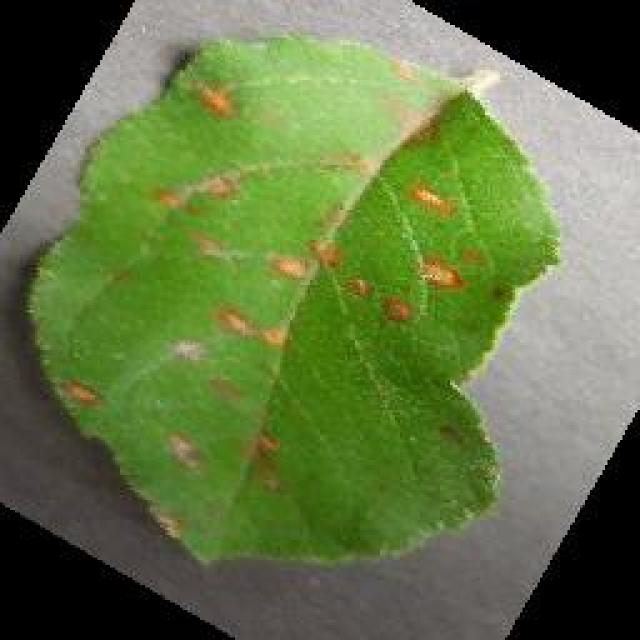apple rust disease: (20, 30, 562, 568)
